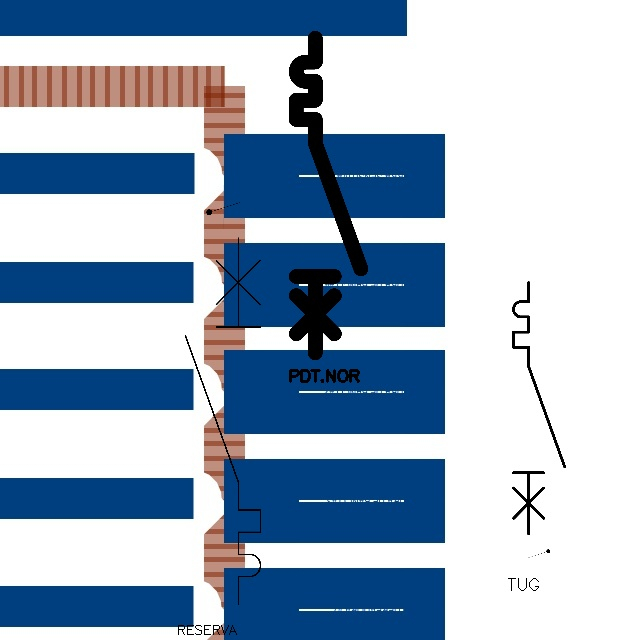interruptor_termomagnetico: (176, 228, 270, 613), (288, 30, 369, 361), (507, 276, 571, 540)
